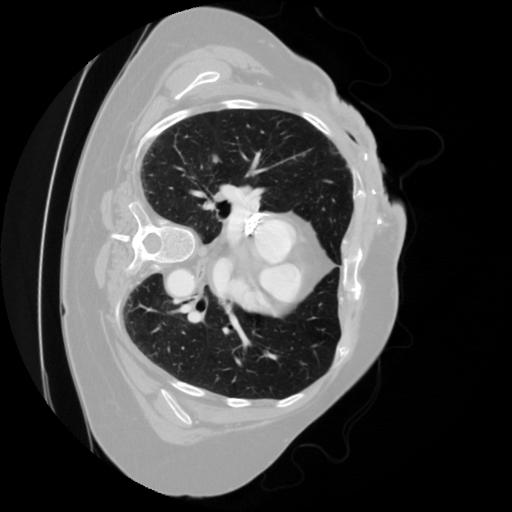nodule: (209, 153, 225, 169)
